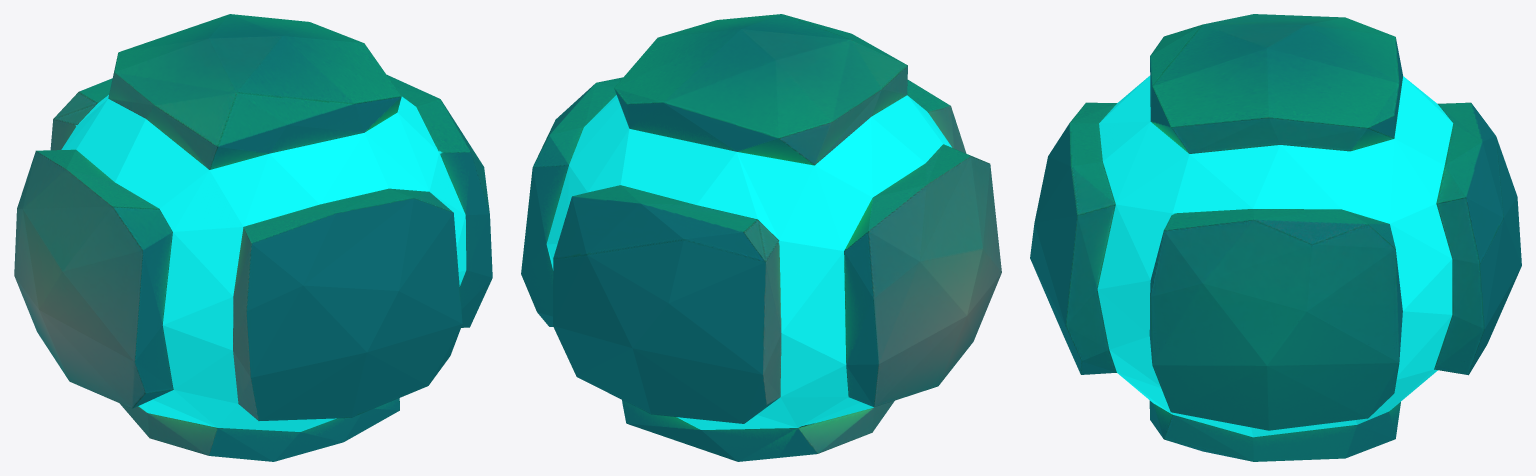
File: shield.glb
3 views of the same model, side by side, from view 1: azimuth 30°, elevation 25°; view 2: azimuth 150°, elevation 25°; view 3: azimuth 270°, elevation 25° (orthographic).
Visible parts, largest first — view 1: shield_BAKED; view 2: shield_BAKED; view 3: shield_BAKED.
Boxes of the visible parts, x1,y1,x2,y2 form: shield_BAKED: (14,14,492,461); shield_BAKED: (521,14,1001,461); shield_BAKED: (1030,14,1521,461).
Bounding box in the file's own units: 2.54 × 2.3 × 2.54.
2 materials, 2 textured.
